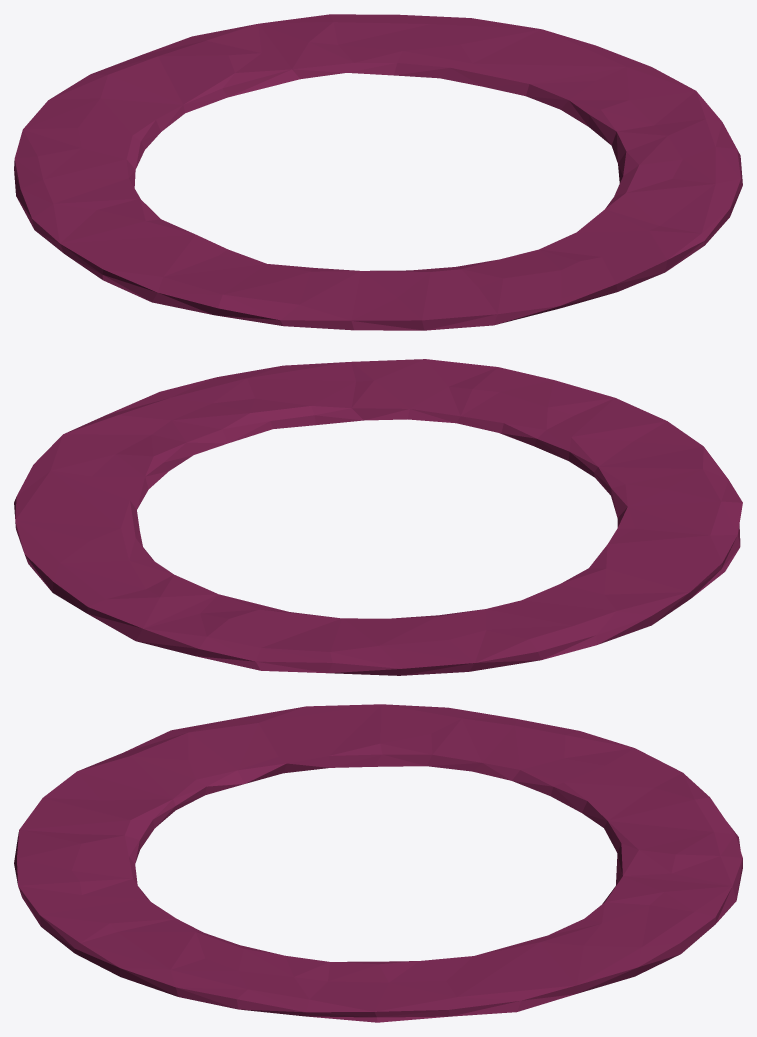
Rendered from new_ring.fbx.
3 views of the same model, one above another, from view 1: azimuth 30°, elevation 25°; view 2: azimuth 150°, elevation 25°; view 3: azimuth 270°, elevation 25° (orthographic).
Parts seen in each view (by area): view 1: New Ring; view 2: New Ring; view 3: New Ring.
Part boxes in pixels (box(x1,y1,x2,y2)): New Ring: box(14, 14, 742, 330); New Ring: box(14, 359, 742, 675); New Ring: box(14, 704, 742, 1022).
Size of the model in its own units: 157 by 4.41 by 156.
